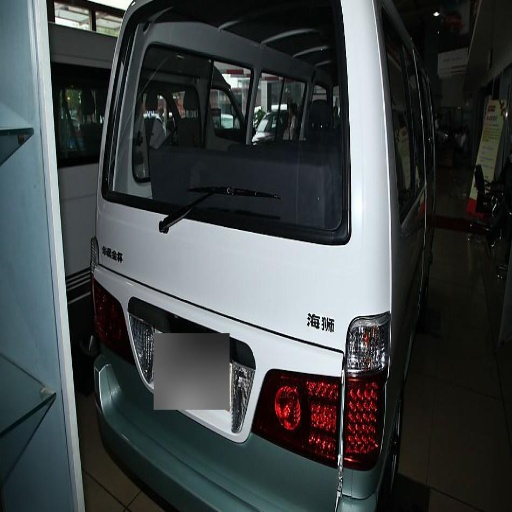back_bumper: (101, 275, 195, 345), (225, 327, 307, 404), (269, 452, 371, 502)
back_right_light: (348, 373, 382, 437)
